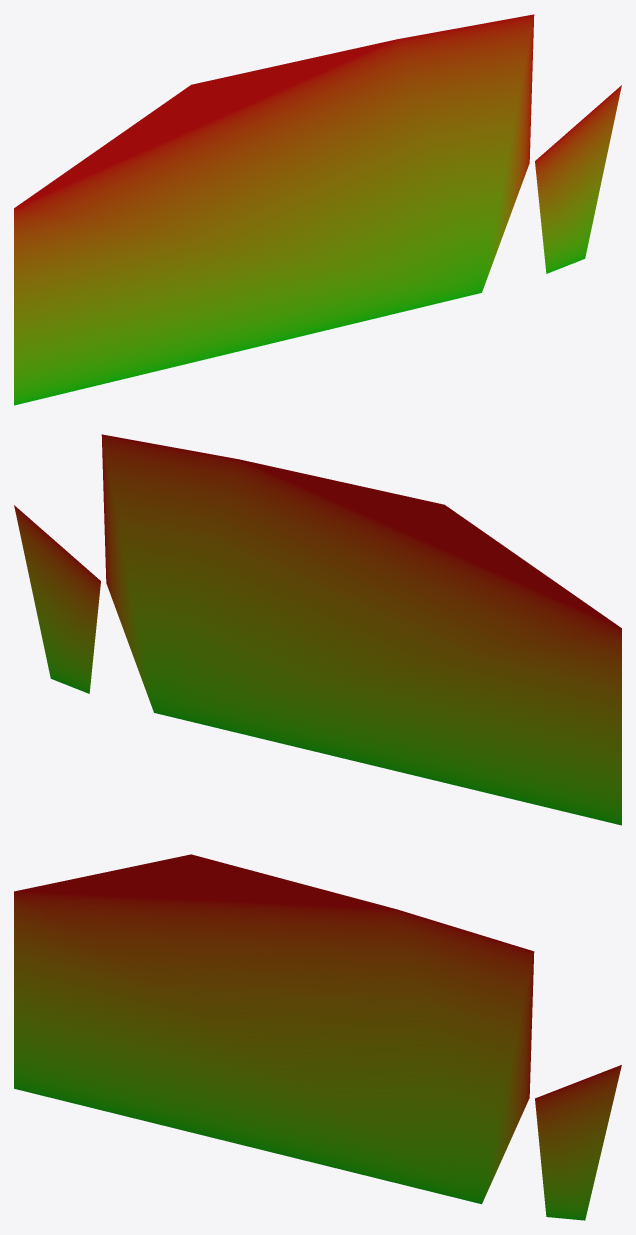
Rendered from Var8_LOD3.fbx.
The picture shows the model from 3 angles, top to bottom: view 1: azimuth 30°, elevation 25°; view 2: azimuth 150°, elevation 25°; view 3: azimuth 330°, elevation 25°; orthographic projection.
Parts seen in each view (by area): view 1: _a47c_Var8_LOD3; view 2: _a47c_Var8_LOD3; view 3: _a47c_Var8_LOD3.
Part boxes in pixels (x1,y1,x2,y2): _a47c_Var8_LOD3: (14,14,621,405); _a47c_Var8_LOD3: (14,434,621,825); _a47c_Var8_LOD3: (14,854,621,1220).
Bounding box in the file's own units: 17.74 × 7.78 × 3.58e-07.
